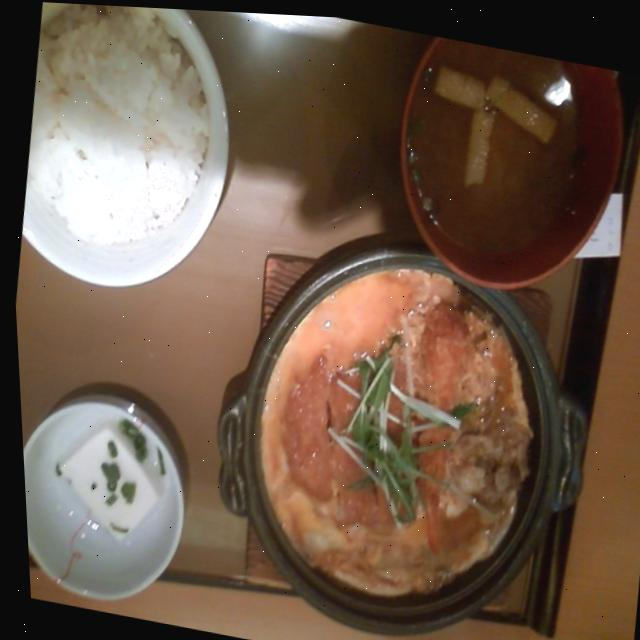米饭主食: (9, 0, 244, 268)
